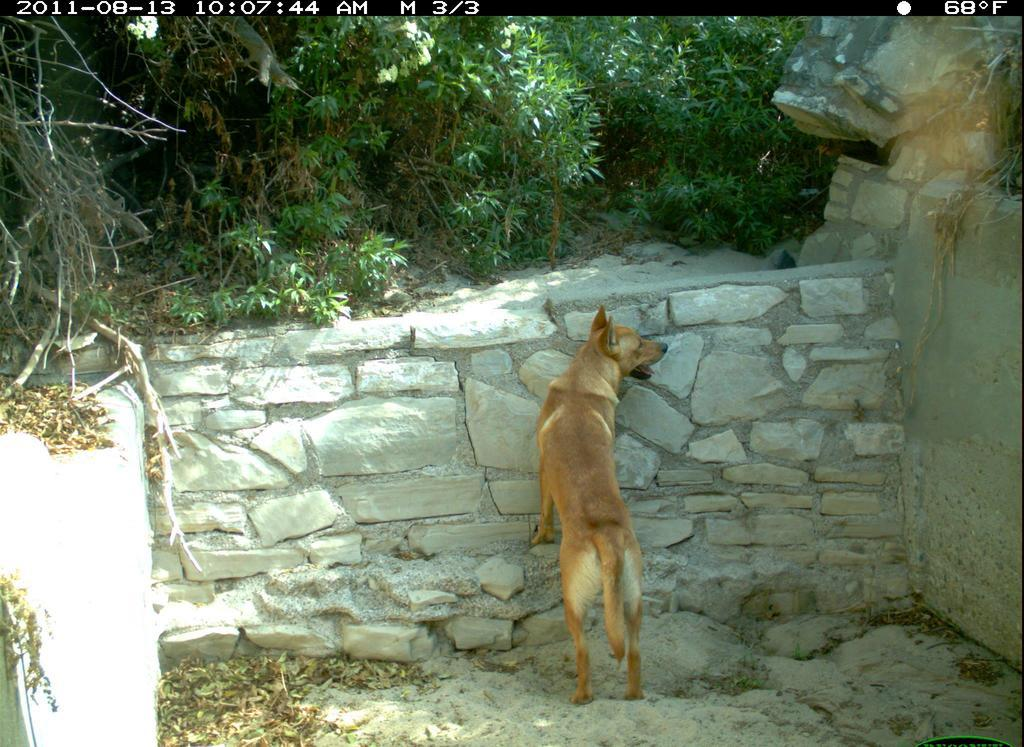dog: (526, 299, 687, 712)
